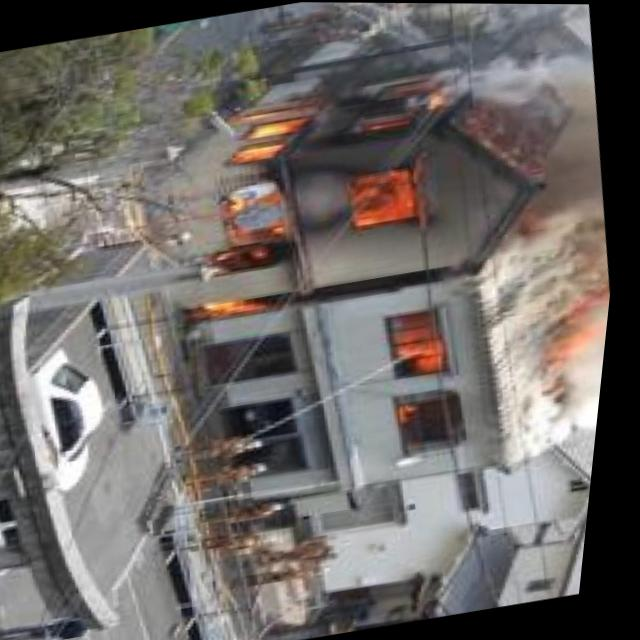Fire: (140, 52, 503, 337), (525, 241, 621, 406), (376, 307, 472, 464)
